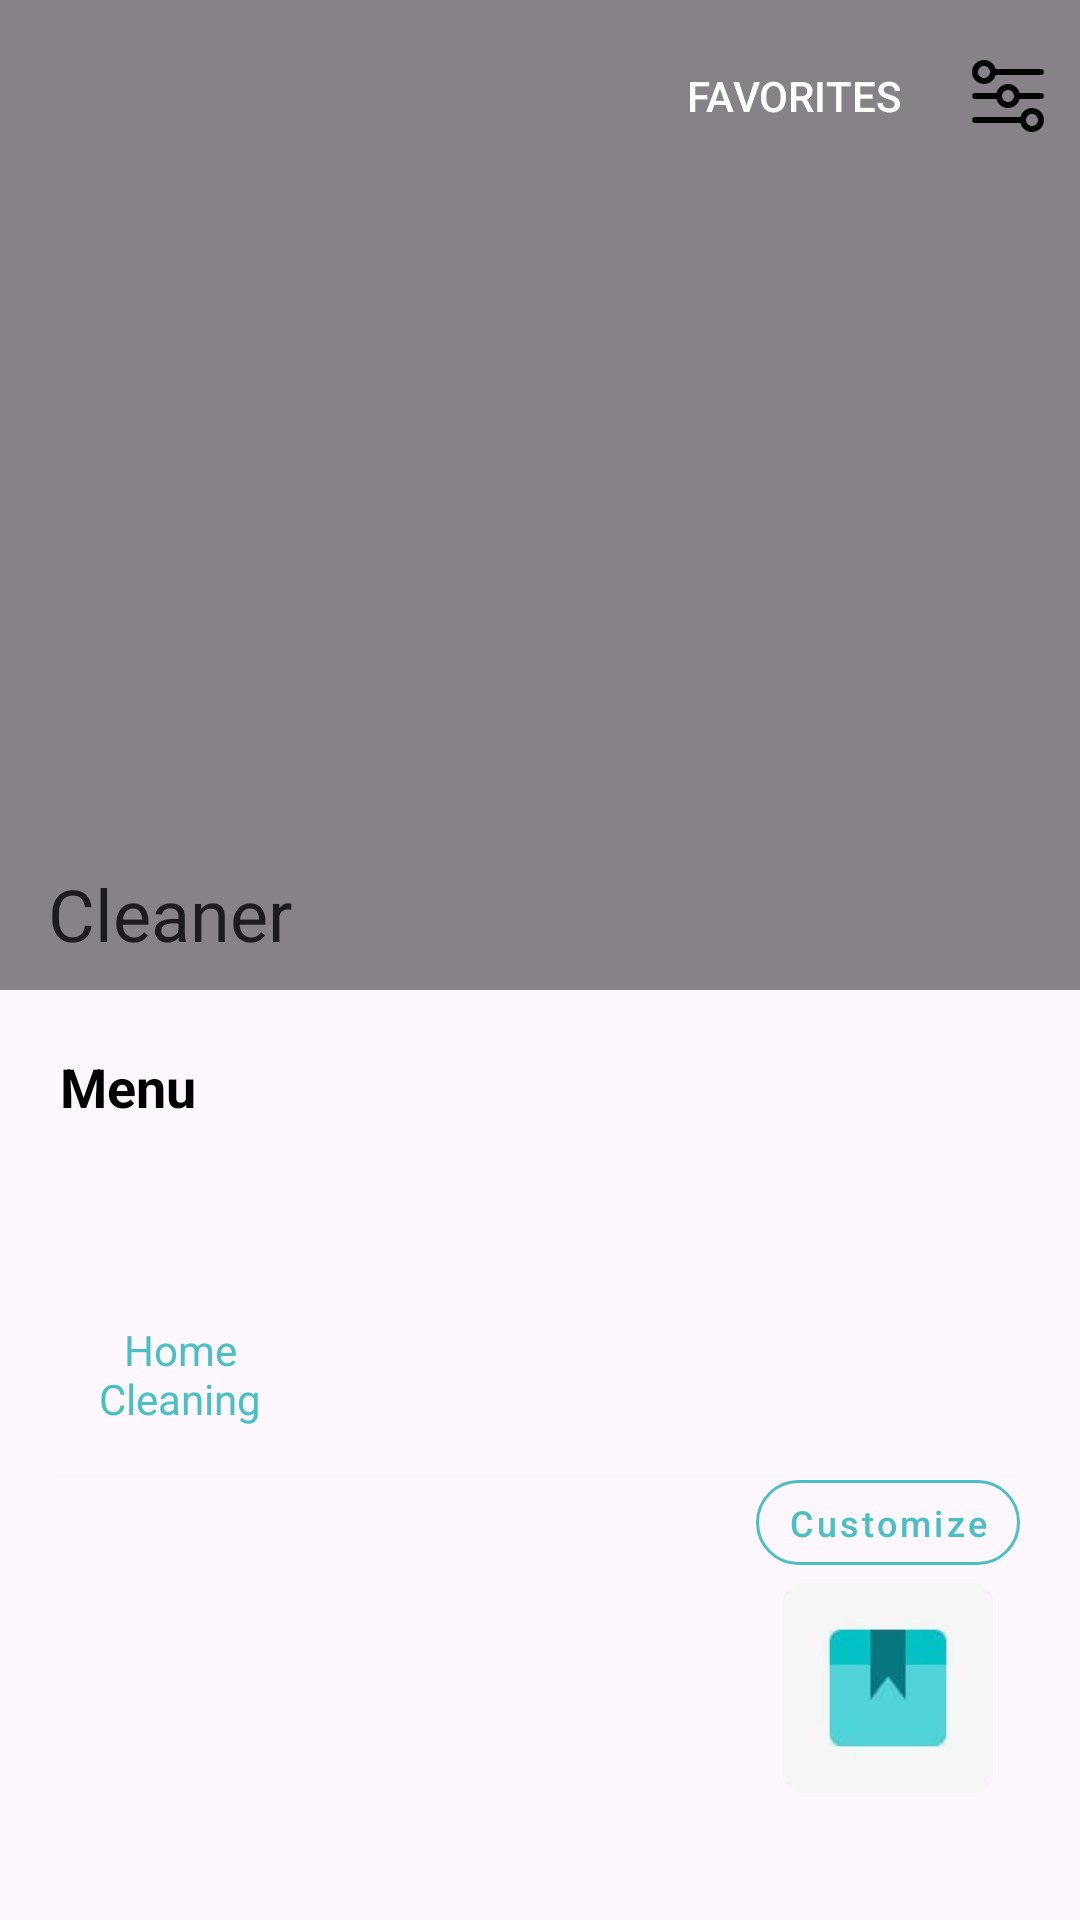

Where to tap for icons on this 1080w x 1920h app screen, as [x,y]:
package: [887,1687]
